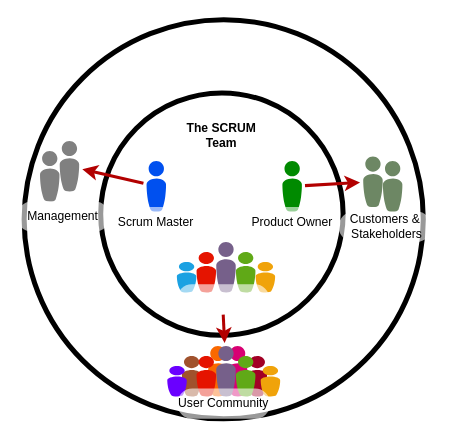
Some shapes in this 449 by 439 pixel diagram are drawn without their labels. Each missing label, with the box of its shape:
The SCRUM Communication Model: (167, 29, 282, 80)
The Team: (176, 284, 269, 314)
